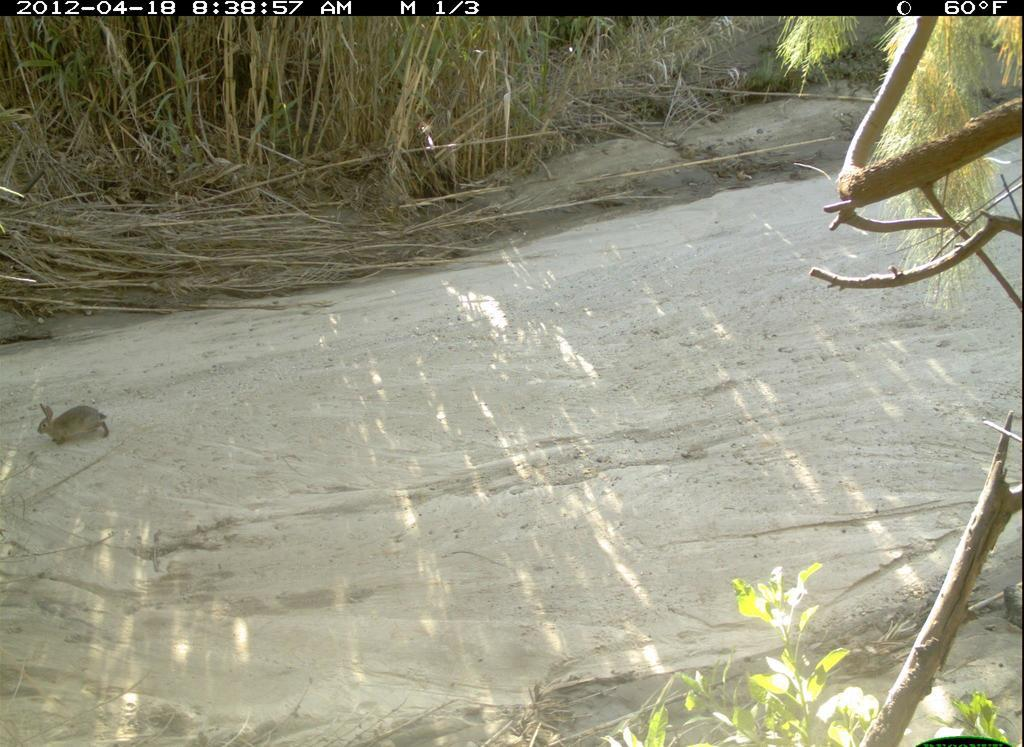rabbit: (38, 393, 134, 451)
